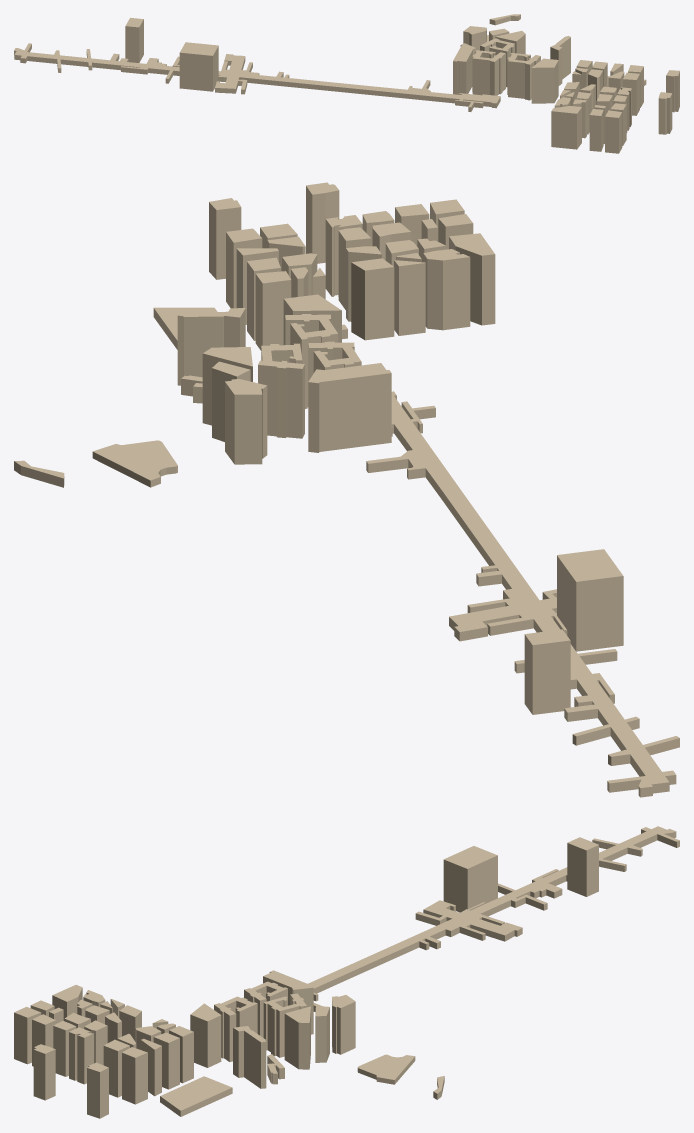
File: -14_-2-estimated-coarse.glb
3 renders of one model, top to bottom at view 1: azimuth 30°, elevation 25°; view 2: azimuth 150°, elevation 25°; view 3: azimuth 270°, elevation 25°, orthographic. The views are drawn at different scales.
Size of the model in its own units: 1186 by 90 by 1165.
